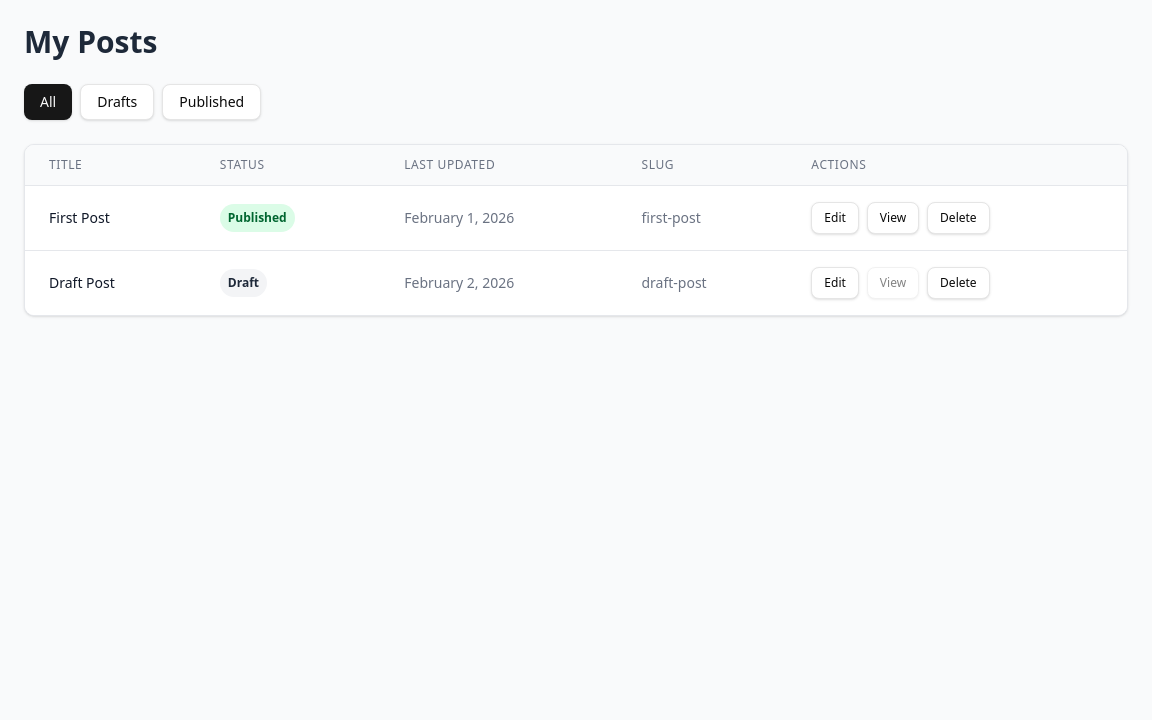
Test: MyPosts Component › opens confirmation dialog when Delete button clicked
The width and height of the screenshot is (1152, 720).
Click the button "Delete" in the row of "First Post".
click(958, 218)  # box [927, 202, 990, 234]
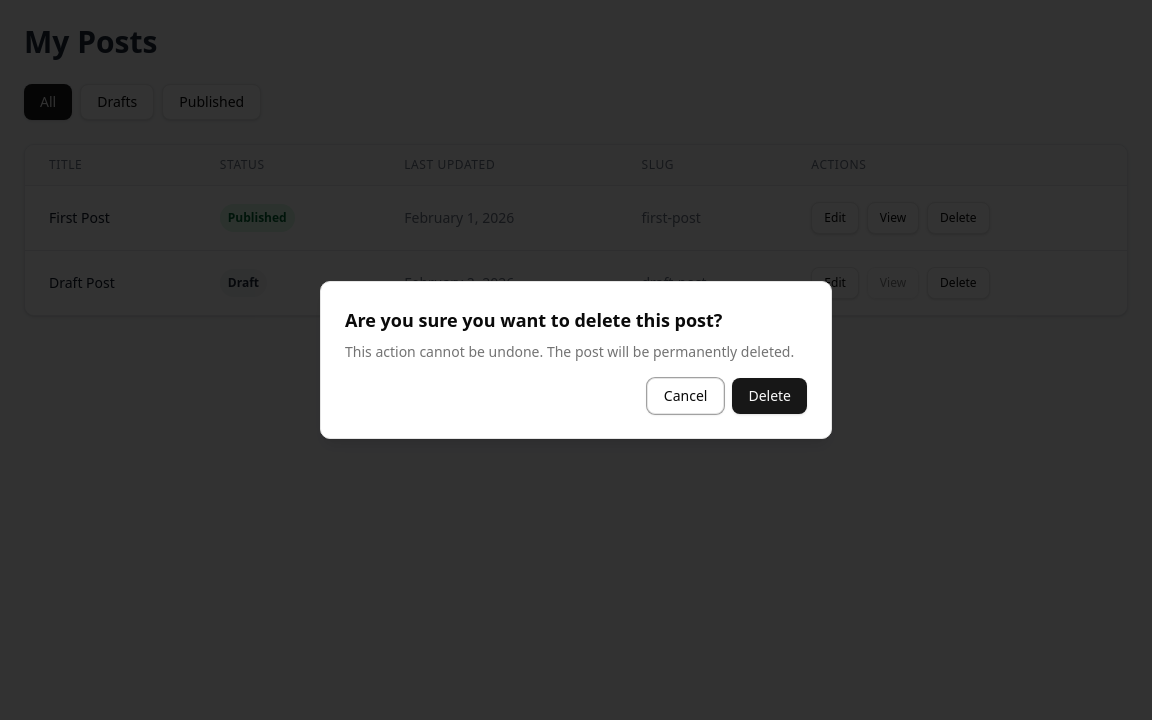
Now the heading "Are you sure you want to delete this post?" is shown, box [345, 308, 722, 332]
Now the text "This action cannot be undone" is shown, box [345, 342, 794, 361]
